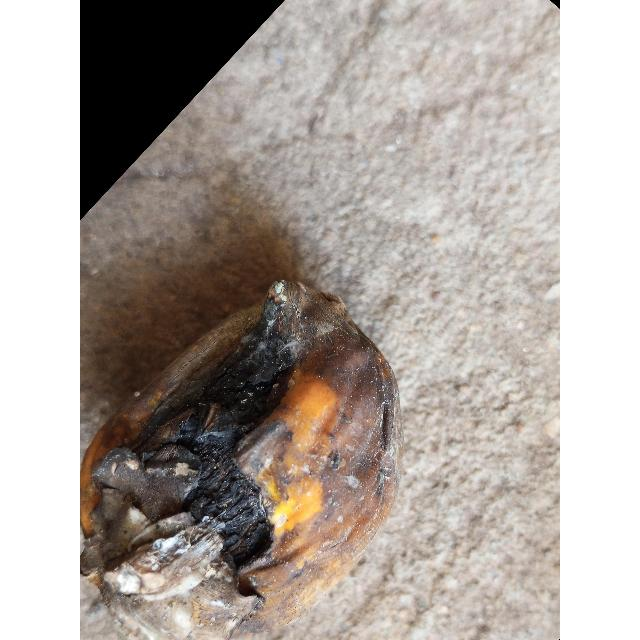damaged: (80, 281, 400, 640)
